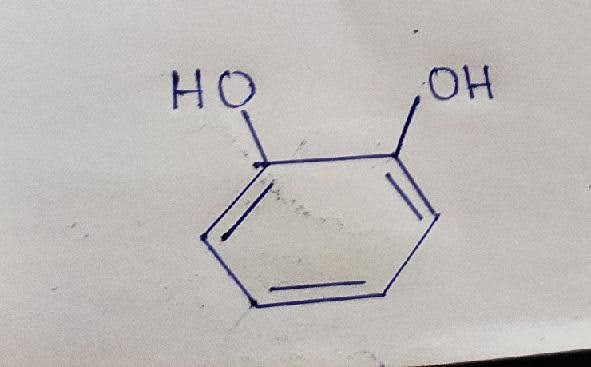Hydroquinone(C6H6O2): (169, 62, 495, 312)
